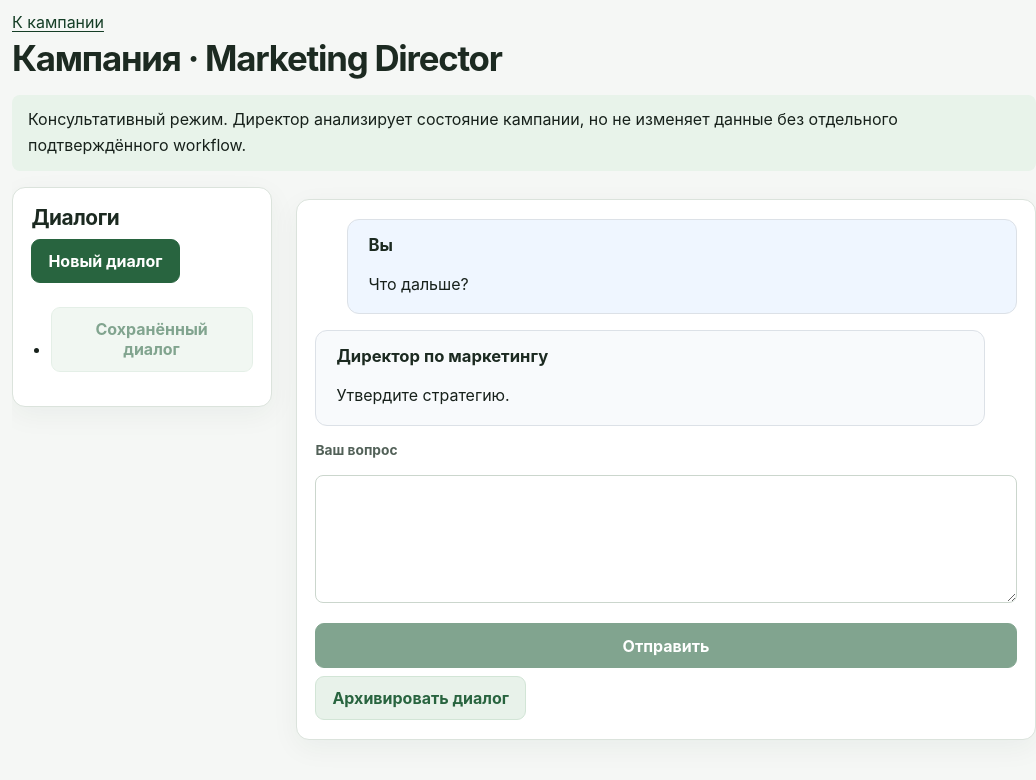
Test: sends with UUID idempotency key and shows pending
Expected: the text "Утвердите стратегию." is shown, [336, 385, 510, 405]
Type "Что дальше?" into the text box labelled "Ваш вопрос".
click(666, 540); type("Что дальше?")  # box [315, 476, 1017, 604]
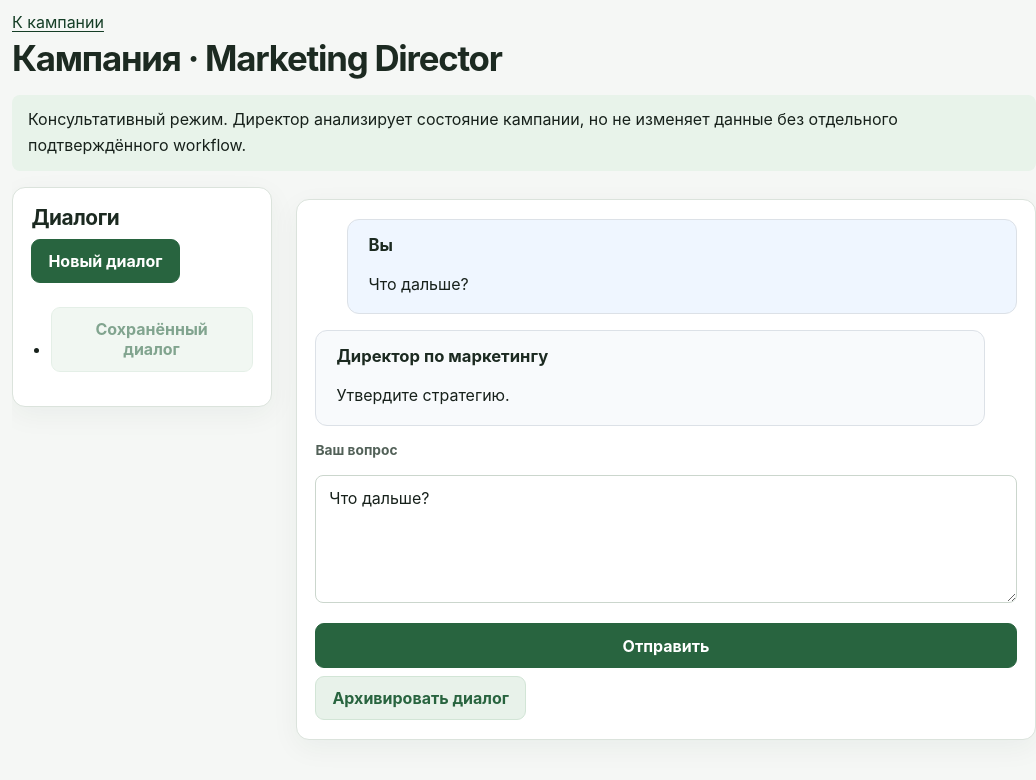
Click the button "Отправить".
click(666, 646)  # box [315, 624, 1017, 668]
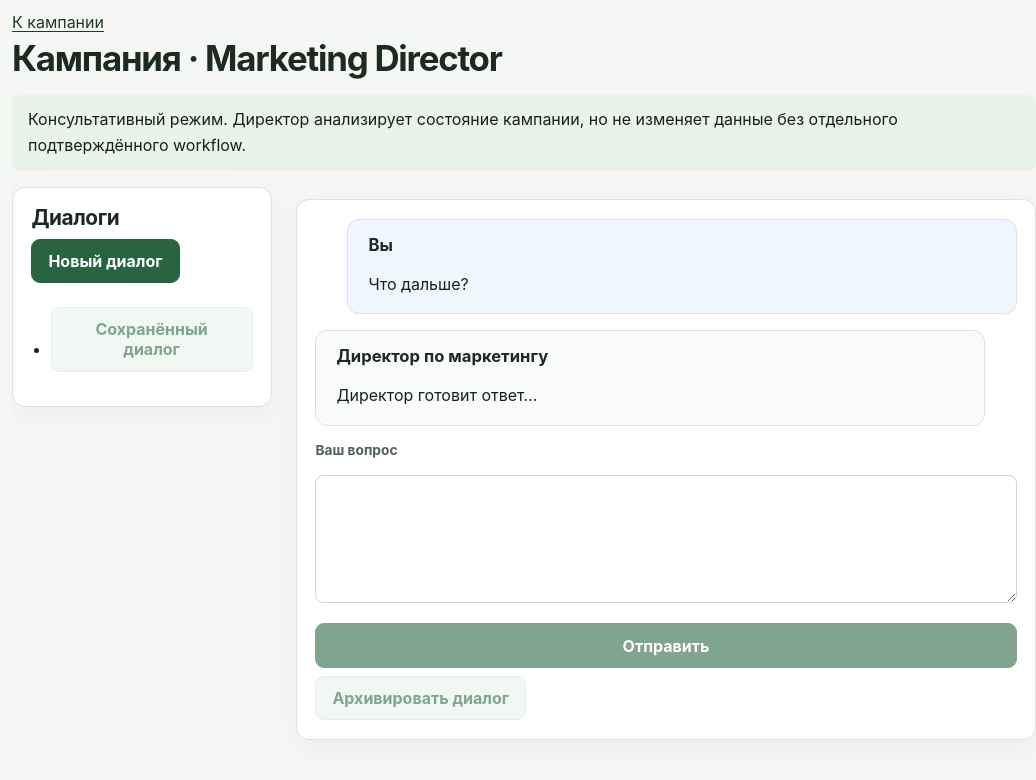
Expected: the text "Директор готовит ответ…" is shown, [336, 385, 537, 405]
Expected: the button "Отправить" is disabled, [315, 624, 1017, 668]
